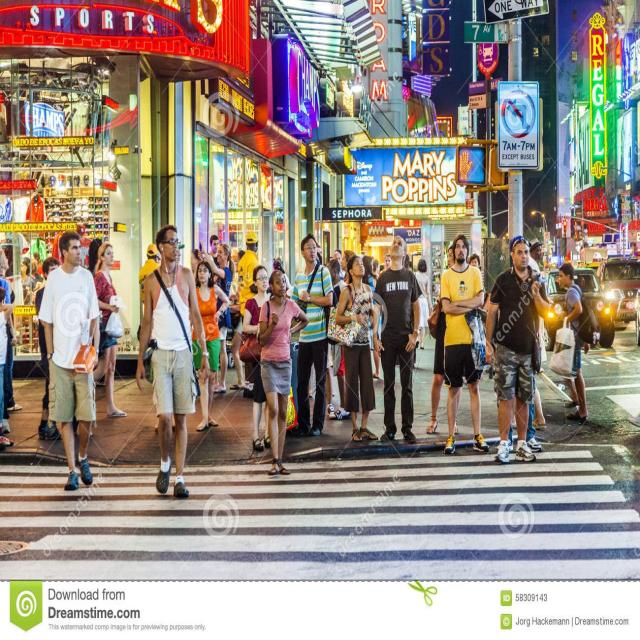body: (134, 223, 212, 500), (37, 228, 101, 492), (484, 234, 552, 464), (440, 231, 491, 455), (256, 268, 310, 478), (371, 233, 422, 443), (334, 252, 385, 445), (288, 231, 334, 438), (189, 260, 230, 432), (93, 240, 130, 419), (238, 263, 272, 453), (195, 236, 234, 395), (426, 245, 458, 435), (558, 263, 591, 421), (36, 256, 62, 442), (324, 258, 352, 422), (236, 230, 262, 400), (0, 247, 24, 413), (495, 384, 547, 454), (528, 238, 548, 374), (362, 255, 383, 379), (228, 249, 245, 390), (411, 258, 434, 351), (0, 286, 16, 413), (138, 242, 162, 306), (18, 247, 42, 311), (316, 246, 356, 284), (270, 256, 304, 300), (428, 242, 447, 309), (323, 344, 335, 419), (205, 233, 221, 281), (368, 253, 392, 283), (2, 358, 11, 436), (86, 236, 102, 272), (605, 264, 640, 279), (187, 248, 201, 272), (401, 252, 414, 271), (467, 252, 480, 269), (576, 274, 587, 291), (174, 245, 182, 265)
